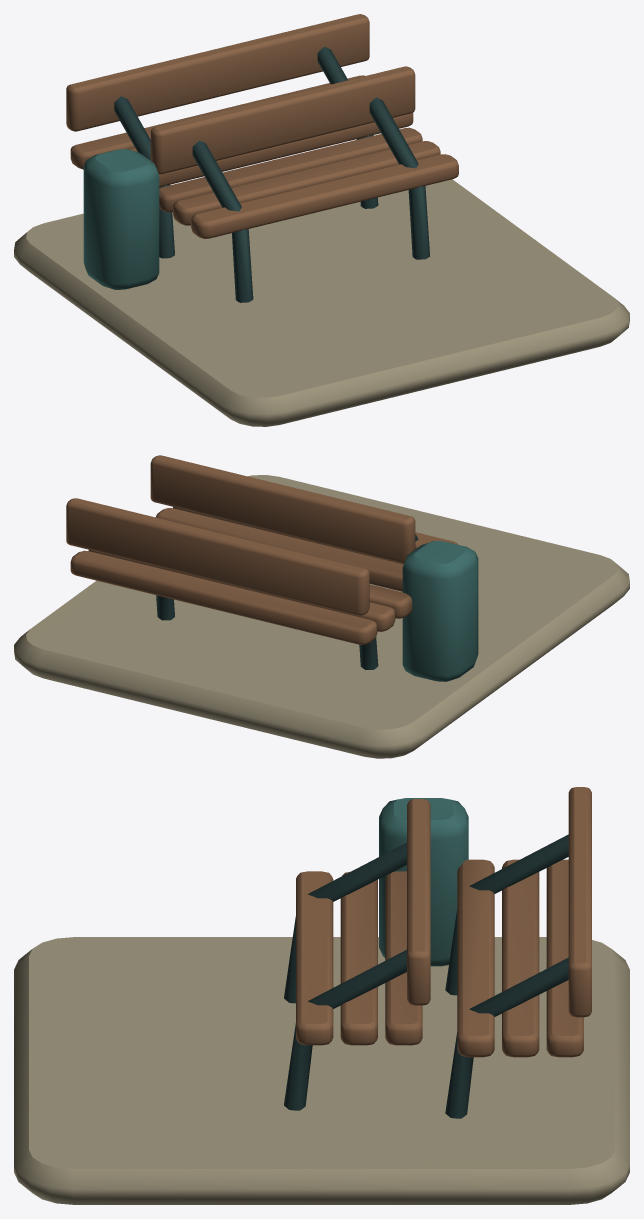
Rendered from annex_motel_2.glb.
3 renders of one model, top to bottom at view 1: azimuth 30°, elevation 25°; view 2: azimuth 150°, elevation 25°; view 3: azimuth 270°, elevation 25°, orthographic. The views are drawn at different scales.
Parts seen in each view (by area): view 1: AnnexMotel2; view 2: AnnexMotel2; view 3: AnnexMotel2.
Part boxes in pixels (x1,y1,x2,y2): AnnexMotel2: [14, 14, 629, 426]; AnnexMotel2: [14, 455, 629, 758]; AnnexMotel2: [14, 787, 629, 1204].
Bounding box in the file's own units: 2.33 × 0.95 × 2.48.
